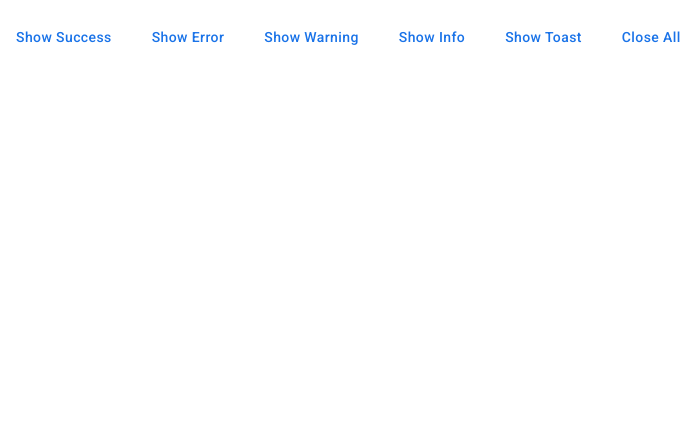
ToastProvider and useToast › showWarning displays warning toast
Click the button "Show Warning".
click(312, 37)  # box [244, 17, 379, 57]
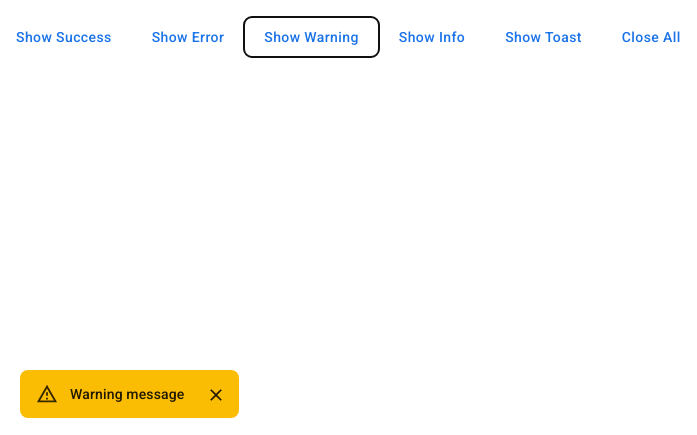
Check: the text "Warning message" is shown, box [70, 386, 184, 402]
